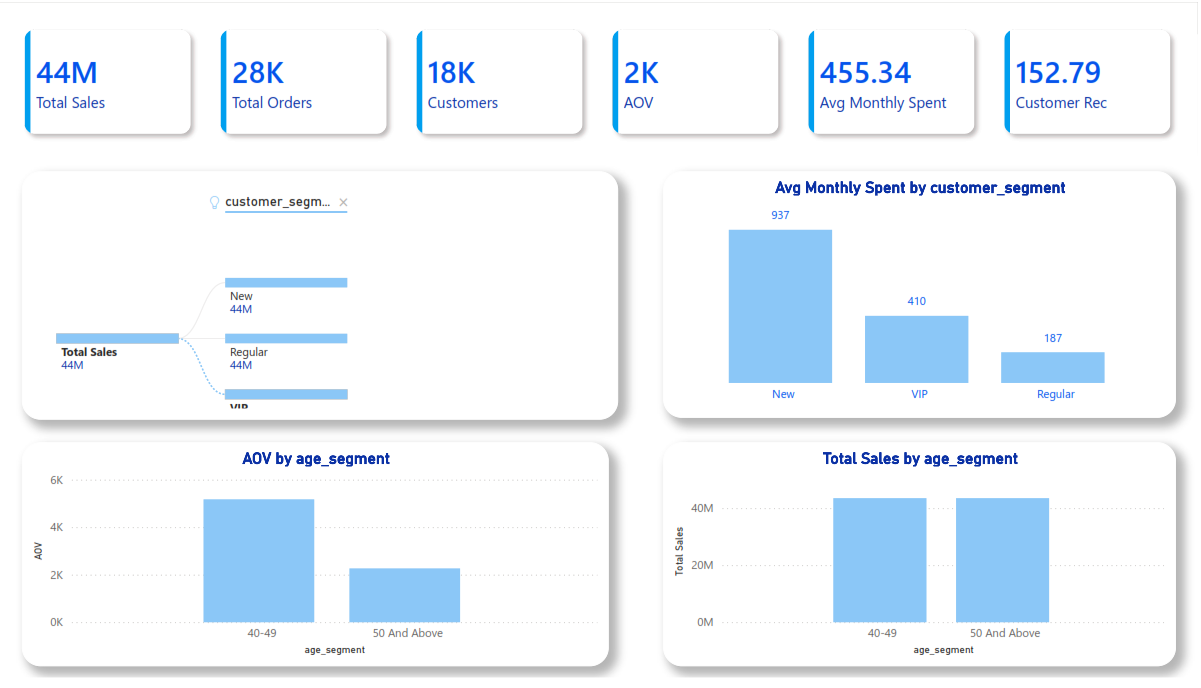

This screenshot's page, from the dashboard's own definition file:
{"tool":"powerbi","page":{"name":"Customer Analysis","canvas":[1280,720],"ordinal":2},"visuals":[{"type":"cardVisual","fields":{"Data":["gold report_customer.Total Sales","gold report_customer.Total Orders","gold report_customer.Customers","gold report_customer.AOV","gold report_customer.Avg Monthly Spent","gold report_customer.Customer Rec"]},"box":[0,0,1280.3,169.5],"z":0},{"type":"decompositionTreeVisual","fields":{"Analyze":["gold report_customer.Total Sales"],"ExplainBy":["gold report_customer.customer_segment"]},"box":[26.1,179.6,635.8,265],"z":1000},{"type":"clusteredColumnChart","fields":{"Category":["gold report_customer.age_segment"],"Y":["gold report_customer.Total Sales"]},"box":[709.7,469.2,547.5,239],"z":2000},{"type":"clusteredColumnChart","fields":{"Y":["gold report_customer.AOV"],"Category":["gold report_customer.age_segment"]},"box":[26.1,469.2,625.7,239],"z":3000},{"type":"clusteredColumnChart","fields":{"Y":["gold report_customer.Avg Monthly Spent"],"Category":["gold report_customer.customer_segment"]},"box":[709.7,179.6,547.5,263.6],"z":4000}]}

Visuals, with their boxes in screenshot pixels (x1, y1, x2, y2), scaled from the page's 1280x720 canvas onto the 1201x688 screenshot:
cardVisual - gold report_customer.Total Sales x gold report_customer.Total Orders: 0, 0, 1200, 162
decompositionTreeVisual - gold report_customer.Total Sales x gold report_customer.customer_segment: 24, 172, 621, 425
clusteredColumnChart - gold report_customer.age_segment x gold report_customer.Total Sales: 666, 448, 1180, 677
clusteredColumnChart - gold report_customer.AOV x gold report_customer.age_segment: 24, 448, 612, 677
clusteredColumnChart - gold report_customer.Avg Monthly Spent x gold report_customer.customer_segment: 666, 172, 1180, 424
